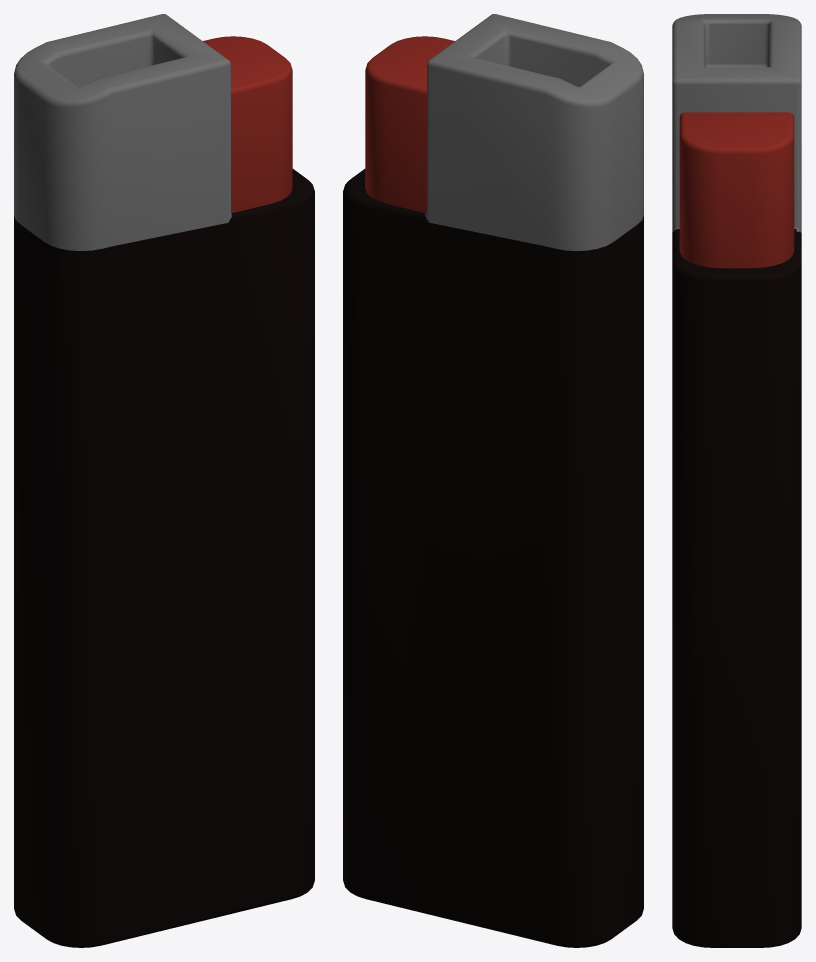
File: zapalaraBIG.fbx
3 renders of one model, left to right at view 1: azimuth 30°, elevation 25°; view 2: azimuth 150°, elevation 25°; view 3: azimuth 270°, elevation 25°, orthographic. The views are drawn at different scales.
Visible parts, largest first — view 1: Cube; view 2: Cube; view 3: Cube.
Part boxes in pixels (box(x1,y1,x2,y2)): Cube: box(14, 14, 314, 947); Cube: box(343, 14, 643, 947); Cube: box(672, 14, 801, 947).
Bounding box in the file's own units: 6.05 × 18.7 × 2.66.
